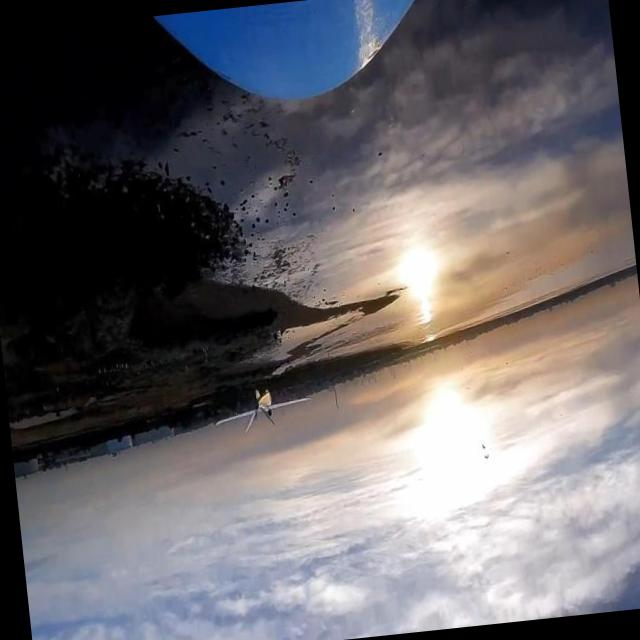UAV: (236, 346, 334, 454)
